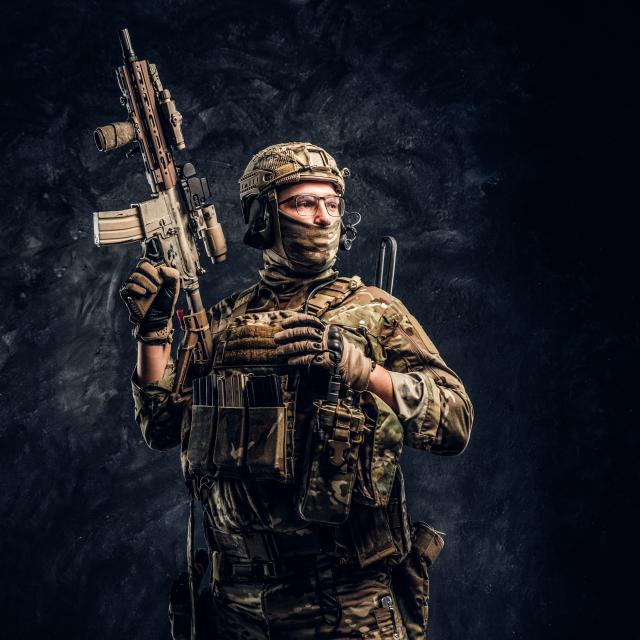rifle: (74, 21, 236, 366)
